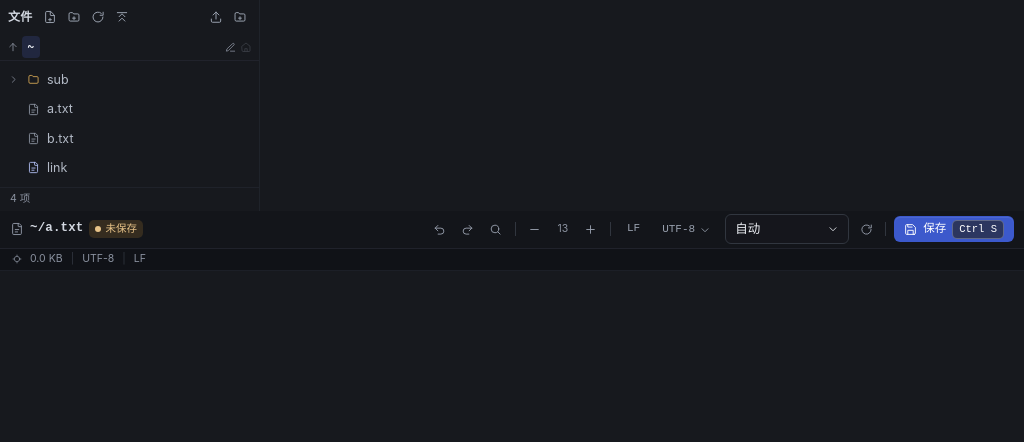
R2 rename editor locator migration › rejects rename while a save is in flight and allows it after that save settles
The image size is (1024, 442).
Click the button titled "保存". click: (954, 229)
box: [894, 216, 1014, 242]
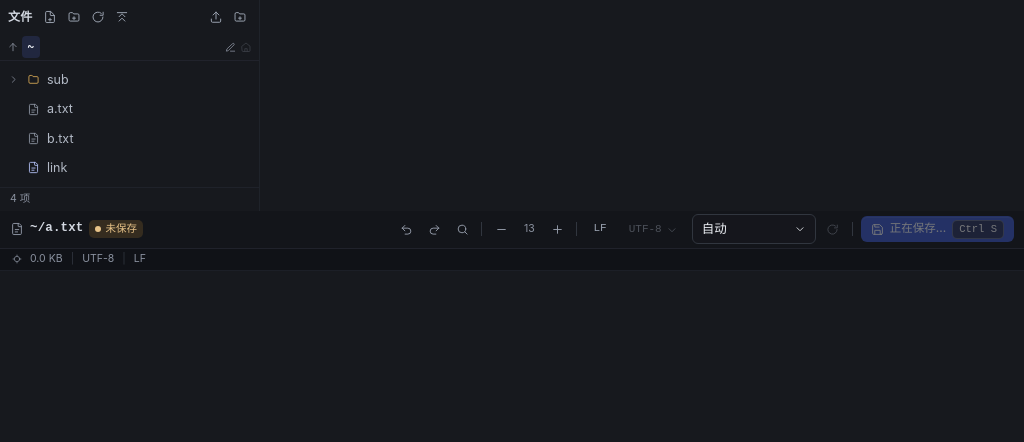
Right-click the list item "a.txt" at (50, 109), box [27, 101, 73, 116]
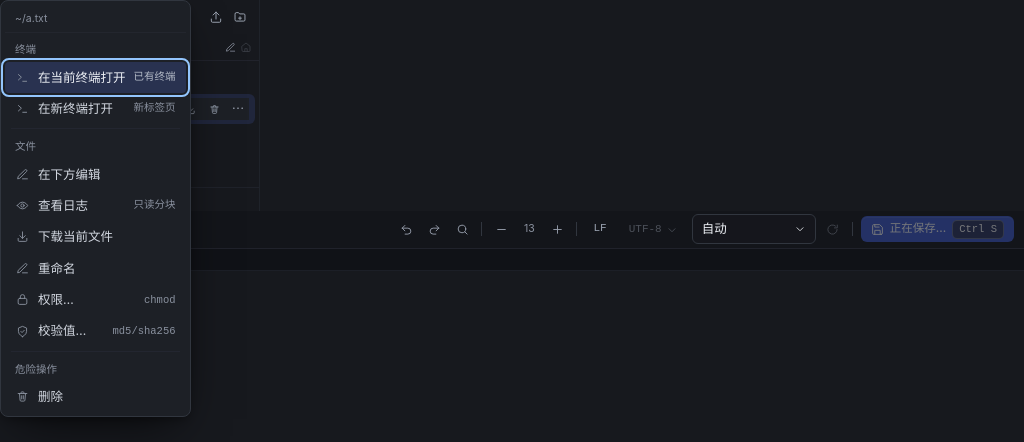
Click the menu item "重命名". click: (95, 268)
box: [5, 253, 186, 284]
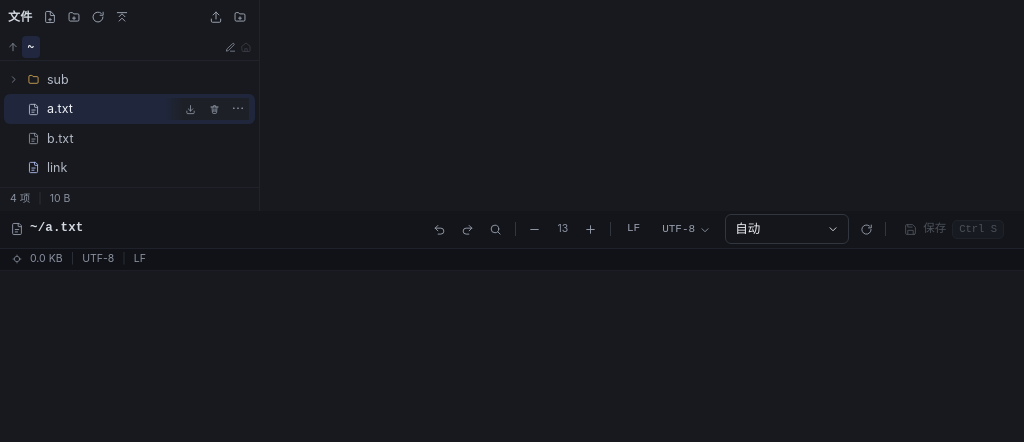
Right-click the list item "a.txt ⋯" at (130, 109), box [4, 94, 255, 124]
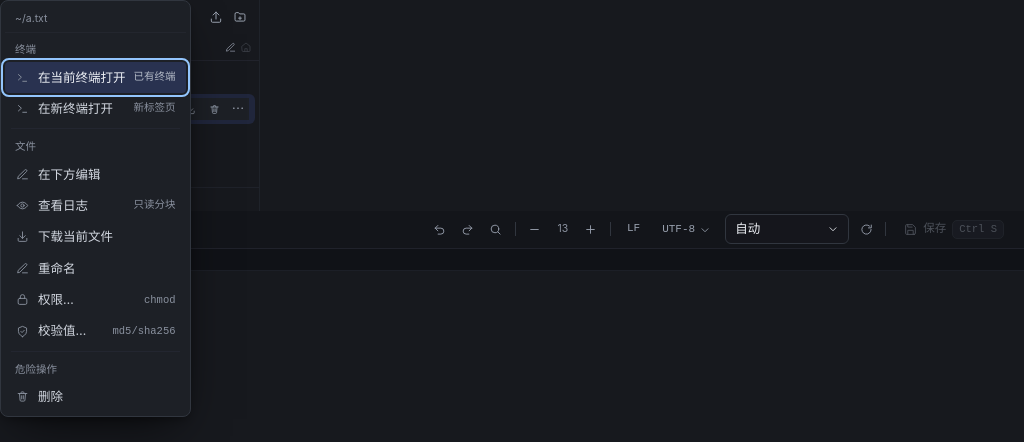
Click the menu item "重命名". click: (95, 268)
box: [5, 253, 186, 284]
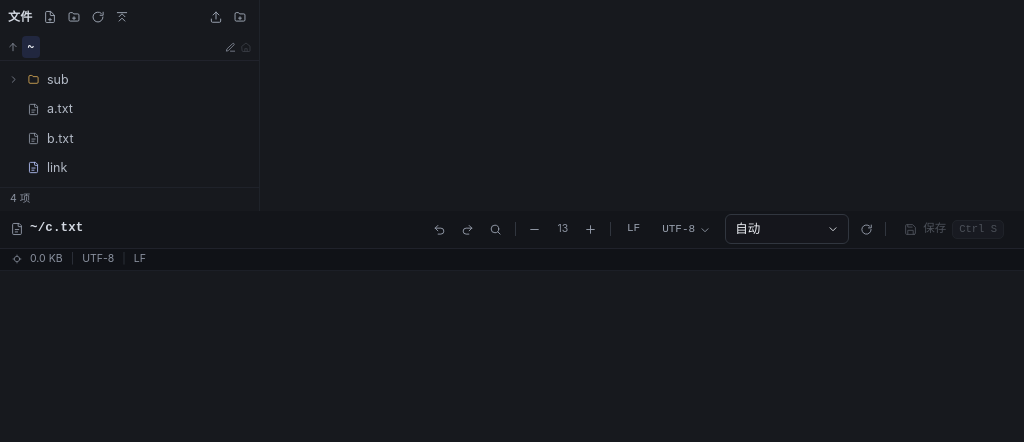
Expected: the text "~/c.txt" is shown, [30, 219, 83, 239]
